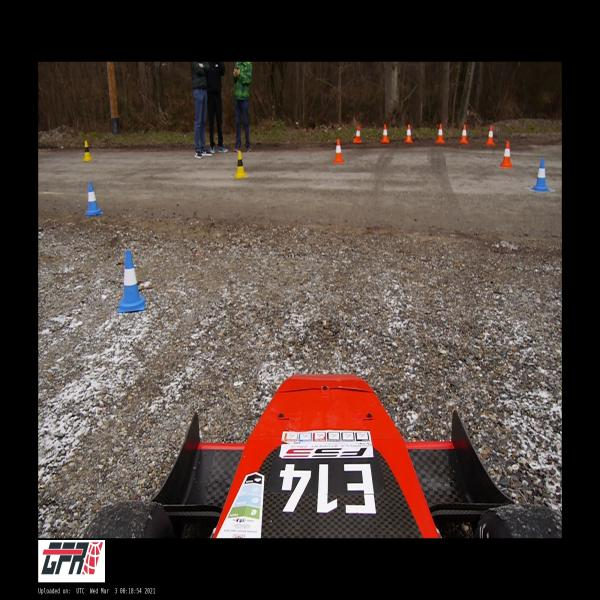blue_cone: (118, 251, 145, 312), (531, 159, 551, 191), (86, 182, 102, 215)
orange_cone: (501, 141, 512, 168), (333, 139, 344, 163), (460, 124, 468, 144), (381, 124, 389, 143), (436, 124, 444, 143), (486, 126, 494, 145), (353, 126, 362, 142), (405, 125, 413, 142)
yellow_cone: (234, 151, 247, 178), (82, 140, 93, 160)
